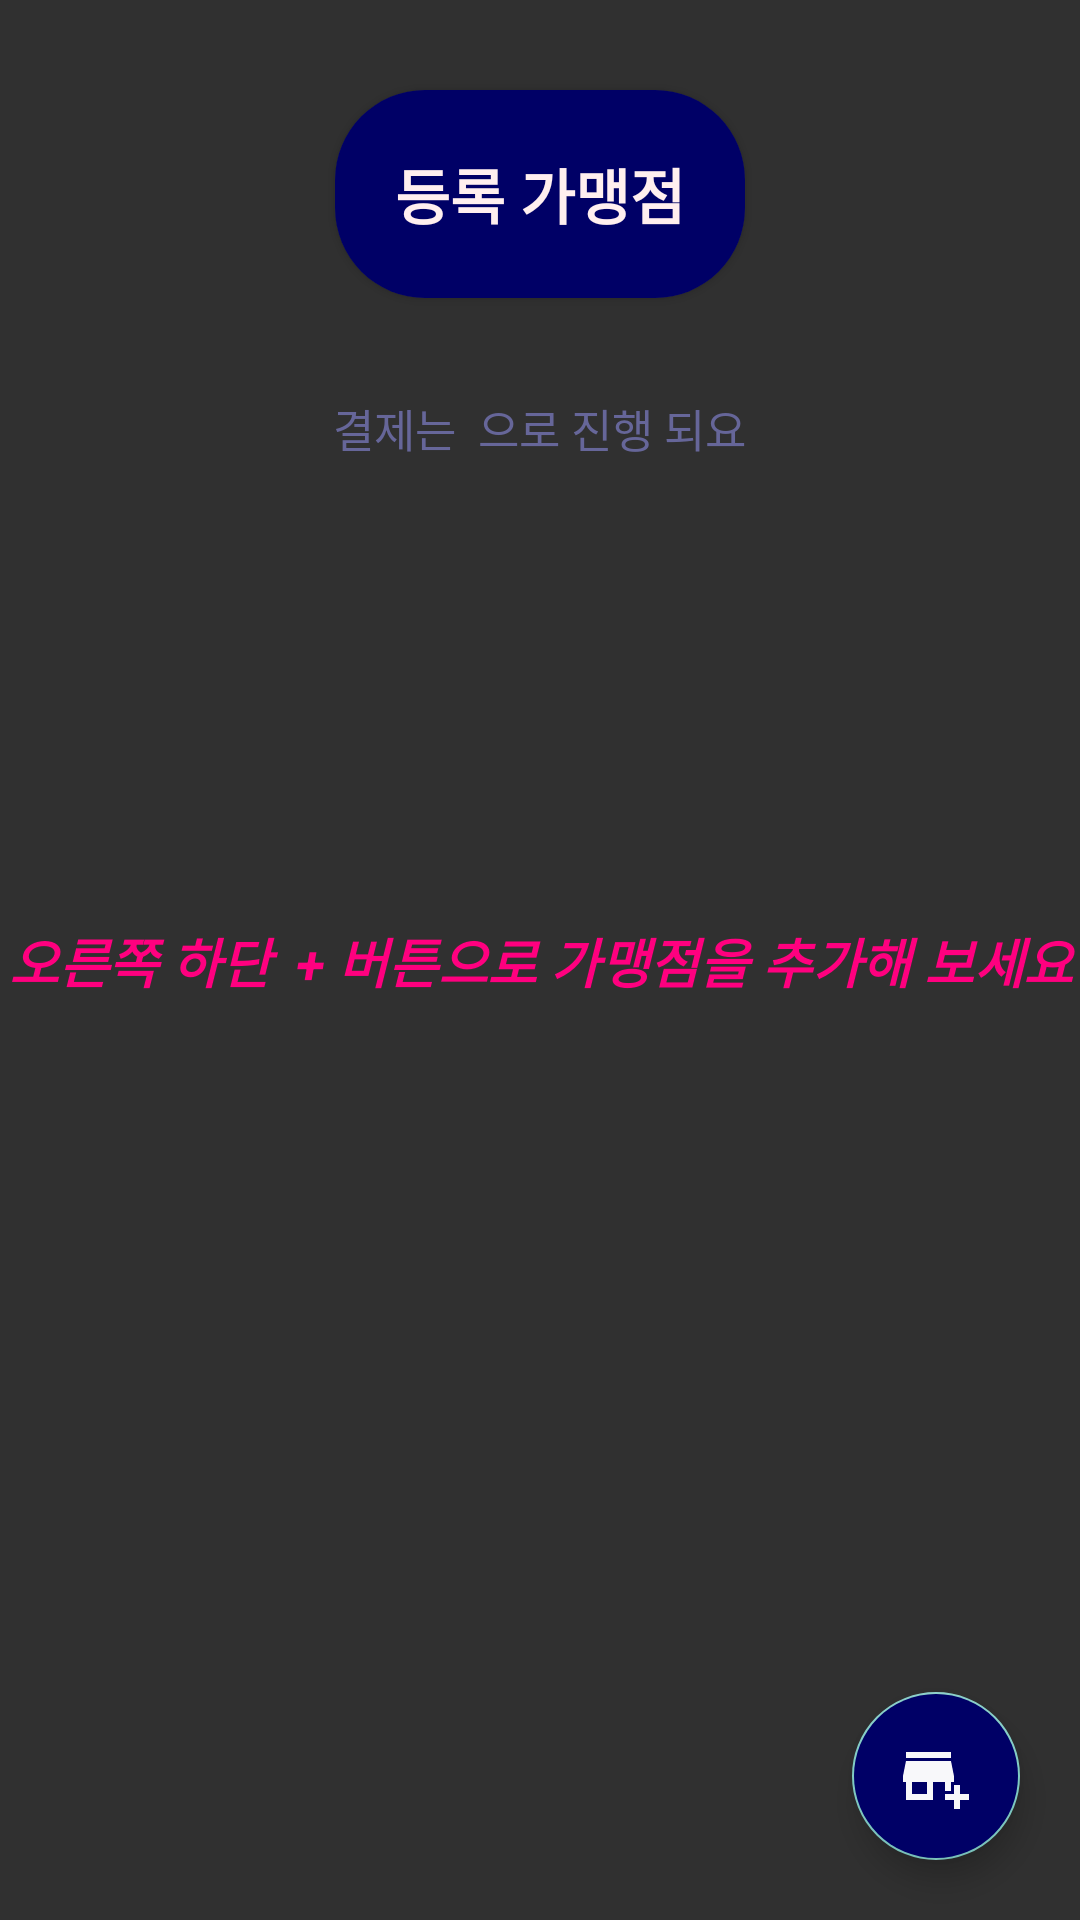

Point at icon controls on the screen. Image size 1080*1920, points as [x,y].
add merchant: [936,1776]
